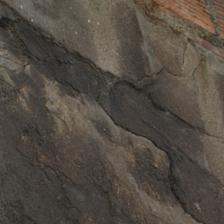Crack: (0, 78, 147, 144), (57, 70, 158, 138), (75, 66, 127, 186)
